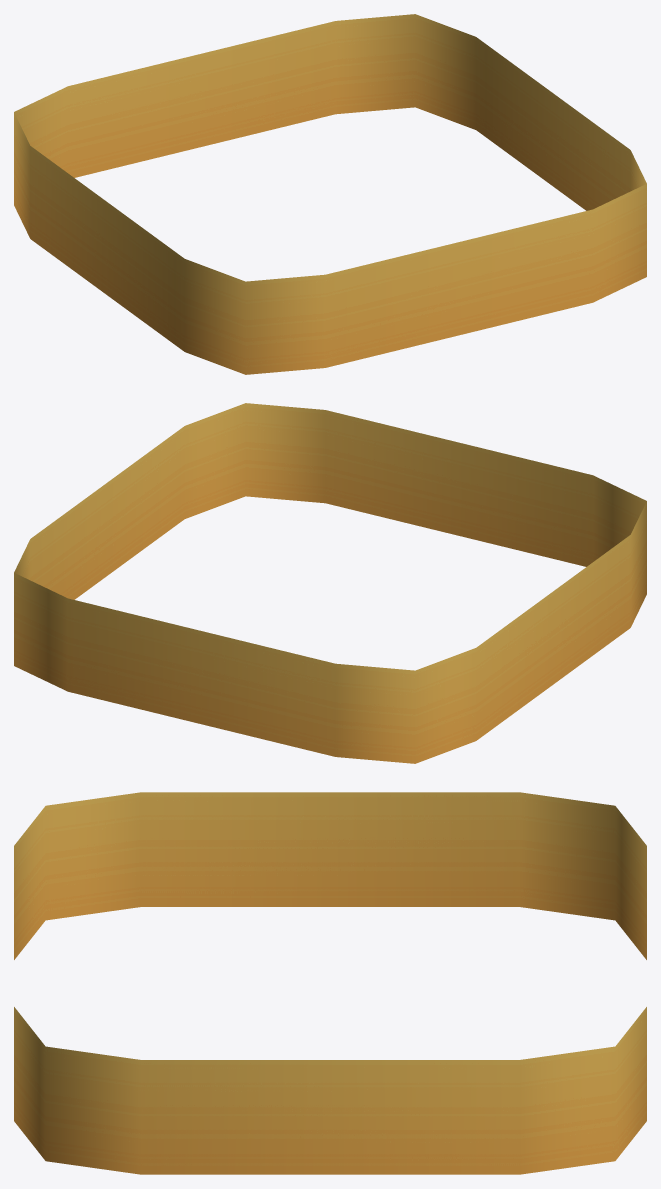
File: indicator-square-f.glb
3 views of the same model, one above another, from view 1: azimuth 30°, elevation 25°; view 2: azimuth 150°, elevation 25°; view 3: azimuth 270°, elevation 25° (orthographic). The views are drawn at different scales.
Parts seen in each view (by area): view 1: indicator-square-f; view 2: indicator-square-f; view 3: indicator-square-f.
Part boxes in pixels (<box>): indicator-square-f: <box>14,14,646,374</box>; indicator-square-f: <box>14,403,646,763</box>; indicator-square-f: <box>14,792,646,1174</box>.
Bounding box in the file's own units: 1 × 0.2 × 1.
1 material, 1 textured.
